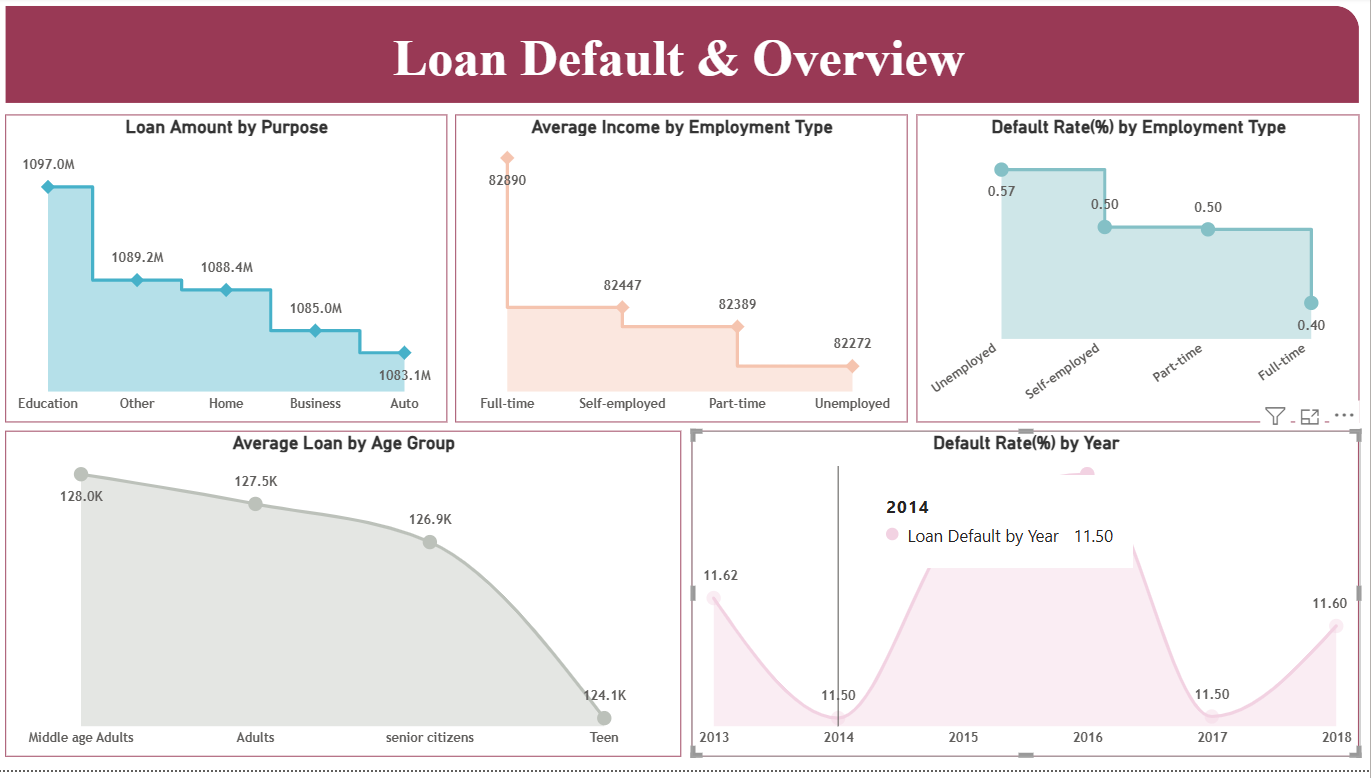

The page's visual inventory and layout, read from the dashboard file:
{"tool":"powerbi","page":{"name":"Loan Default and overview","canvas":[1280,720],"ordinal":0},"visuals":[{"type":"shape","box":[11,8.6,1259.5,90.5],"z":0},{"type":"lineChart","title":"Loan Amount by Purpose","fields":{"Category":["Loan_default.LoanPurpose"],"Y":["Measure table 1.loan amount to purpose"]},"box":[11,108.8,410.9,286.1],"z":1000},{"type":"lineChart","title":"Average Income by Employment Type","fields":{"Y":["Measure table 1.Average Income by Employment type"],"Category":["Loan_default.EmploymentType"]},"box":[429.2,108.8,420.7,286.1],"z":2000},{"type":"lineChart","title":"Default Rate(%) by Employment Type","fields":{"Category":["Loan_default.EmploymentType"],"Y":["Measure table 1.Default Rate by Employment types"]},"box":[858.4,108.8,412.1,286.1],"z":3000},{"type":"lineChart","title":"Average Loan by Age Group","fields":{"Y":["Measure table 1.Average Loan by Age Group"],"Category":["Loan_default.AgeGroup"]},"box":[11,403.5,628.5,303.3],"z":4000},{"type":"lineChart","title":"Default Rate(%) by Year","fields":{"Y":["Measure table 1.Loan Default by Year"],"Category":["Loan_default.Year"]},"box":[649.3,403.5,621.2,303.3],"z":5000}]}

Visuals, with their boxes in screenshot pixels (x1, y1, x2, y2), scaled from the page's 1280x720 canvas onto the 1371x778 screenshot:
shape: <region>12, 9, 1361, 107</region>
"Loan Amount by Purpose" lineChart: <region>12, 118, 452, 427</region>
"Average Income by Employment Type" lineChart: <region>460, 118, 910, 427</region>
"Default Rate(%) by Employment Type" lineChart: <region>919, 118, 1361, 427</region>
"Average Loan by Age Group" lineChart: <region>12, 436, 685, 764</region>
"Default Rate(%) by Year" lineChart: <region>695, 436, 1361, 764</region>
